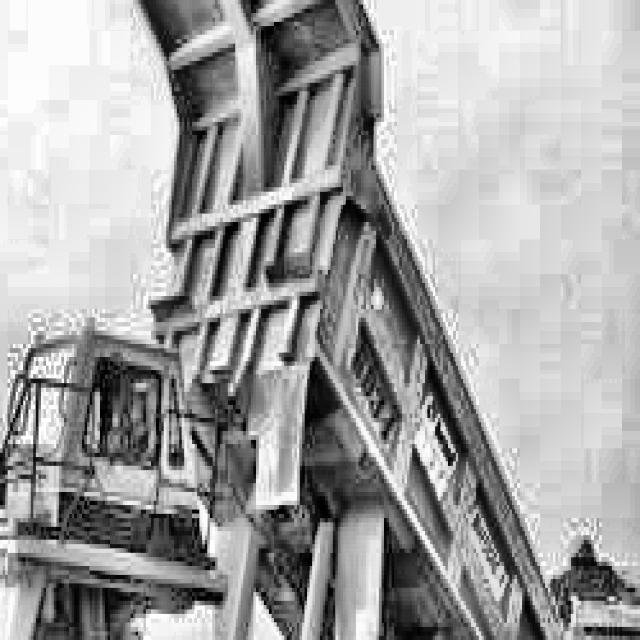dump_truck: (0, 0, 607, 640)
